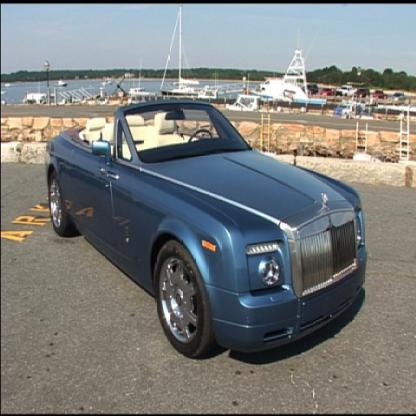Vehicle: (47, 101, 369, 360)
